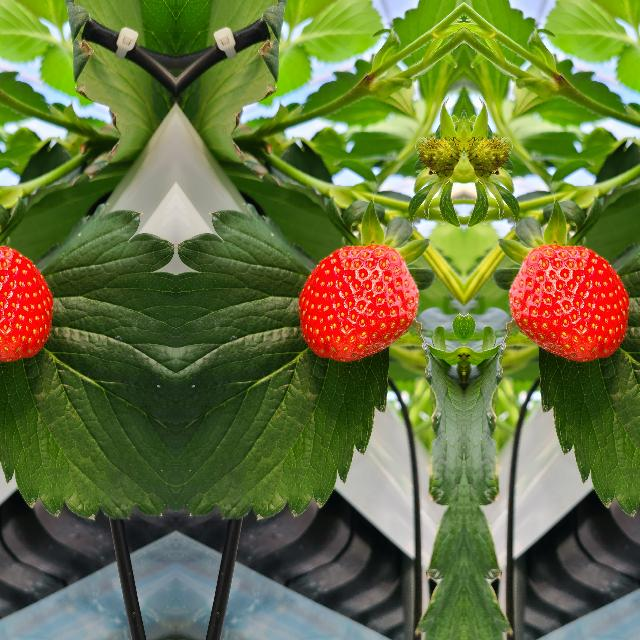Health_100: (296, 243, 420, 363), (506, 243, 630, 363), (0, 243, 54, 363)
Health_25: (410, 130, 456, 184), (470, 130, 516, 184)
